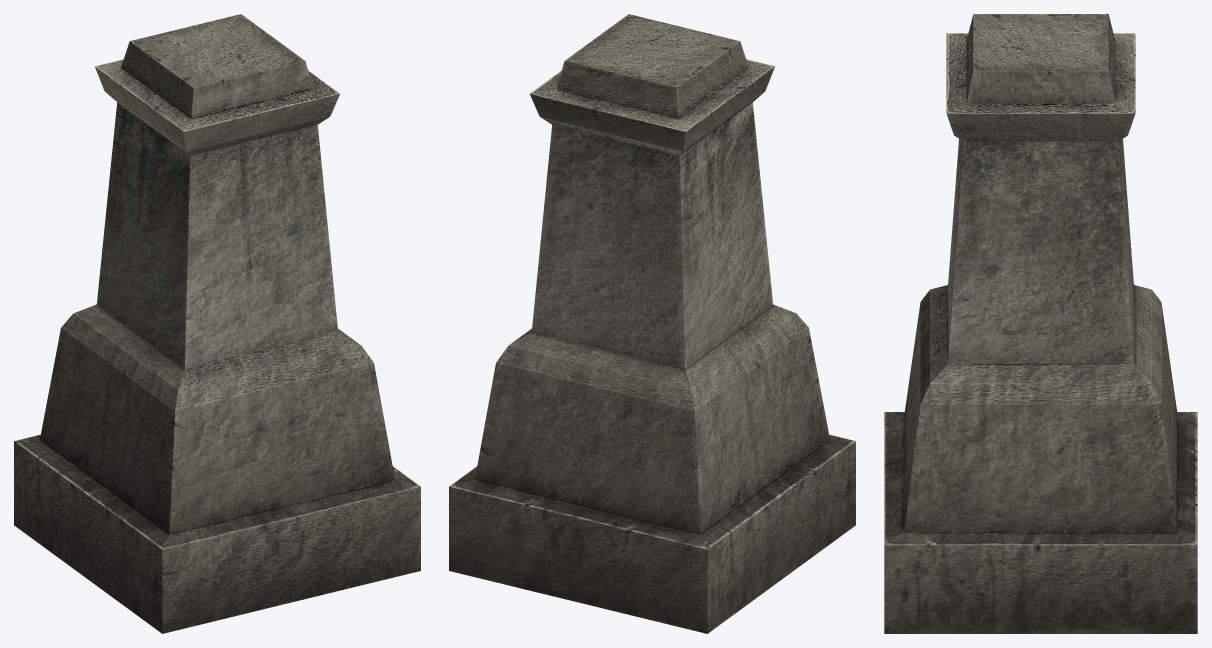
File: LowWall_Cap.dae
3 renders of one model, left to right at view 1: azimuth 30°, elevation 25°; view 2: azimuth 150°, elevation 25°; view 3: azimuth 270°, elevation 25°, orthographic. The views are drawn at different scales.
Visible parts, largest first — view 1: LowWall_Cap; view 2: LowWall_Cap; view 3: LowWall_Cap.
Boxes of the visible parts, box(x1,y1,x2,y2) form: LowWall_Cap: box(14, 14, 420, 633); LowWall_Cap: box(449, 14, 855, 633); LowWall_Cap: box(884, 14, 1197, 633).
Size of the model in its own units: 0.9495 by 0.9445 by 1.74.
